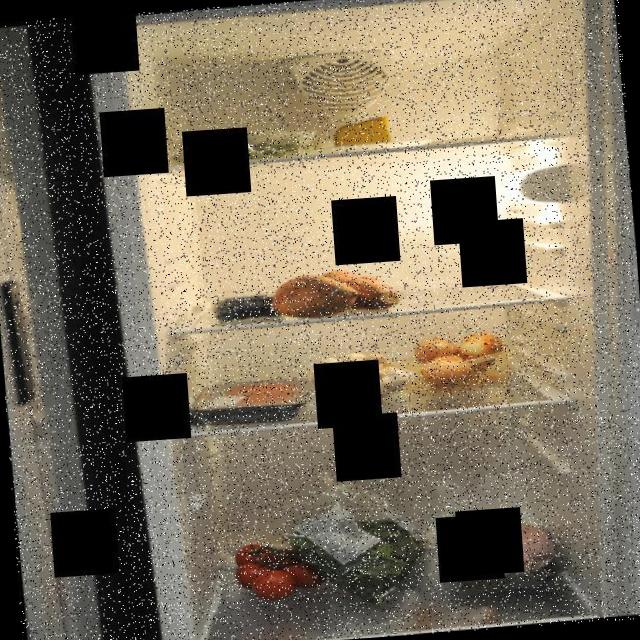Carne pollo: (432, 511, 570, 600)
Carne vacuno: (204, 374, 302, 419)
Cebolla: (410, 326, 514, 392)
Champiñones: (298, 343, 424, 414)
Queso: (332, 112, 394, 151)
Tomate: (225, 531, 336, 605)
blueberries: (206, 287, 285, 325)
green_beans: (148, 118, 328, 172)
spinach: (278, 492, 438, 614)
sweet_potato: (262, 264, 409, 328)
